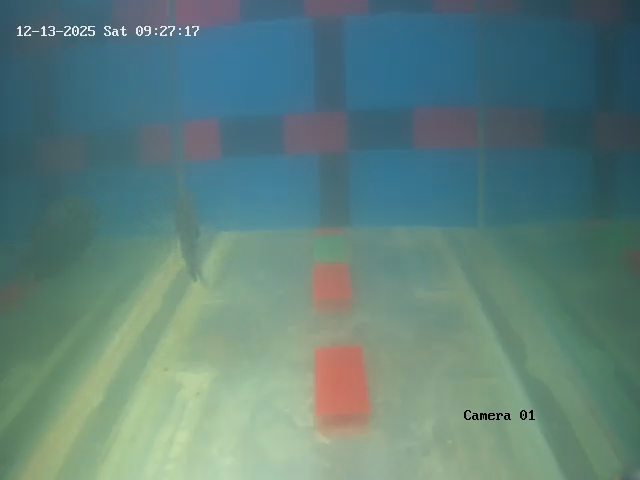fish: (159, 190, 221, 280)
